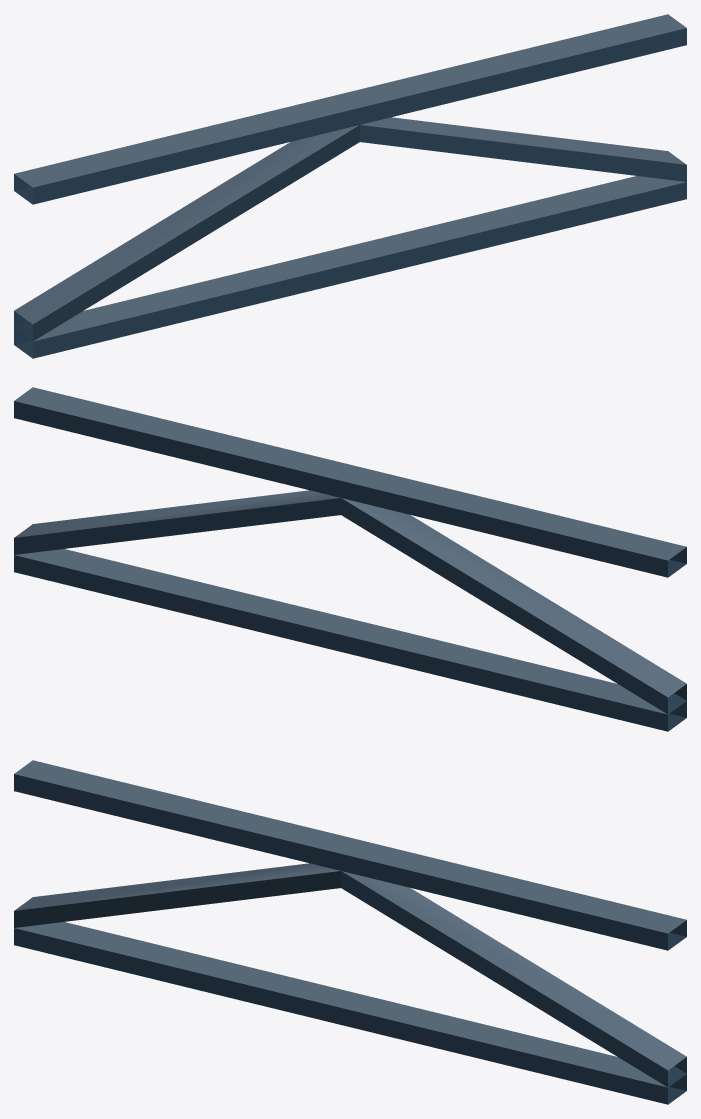
File: Celling.fbx
3 views of the same model, one above another, from view 1: azimuth 30°, elevation 25°; view 2: azimuth 150°, elevation 25°; view 3: azimuth 330°, elevation 25° (orthographic).
Visible parts, largest first — view 1: SM_Beam_Ceiling_400; view 2: SM_Beam_Ceiling_400; view 3: SM_Beam_Ceiling_400.
Part boxes in pixels (box(x1,y1,x2,y2)): SM_Beam_Ceiling_400: box(14, 14, 686, 358); SM_Beam_Ceiling_400: box(14, 387, 686, 731); SM_Beam_Ceiling_400: box(14, 760, 686, 1104).
Size of the model in its own units: 400 by 100 by 20.
